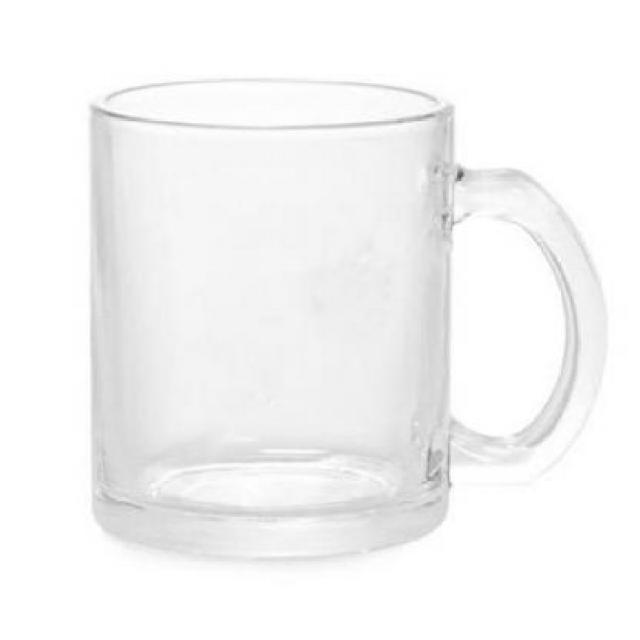taza: (89, 78, 609, 562)
